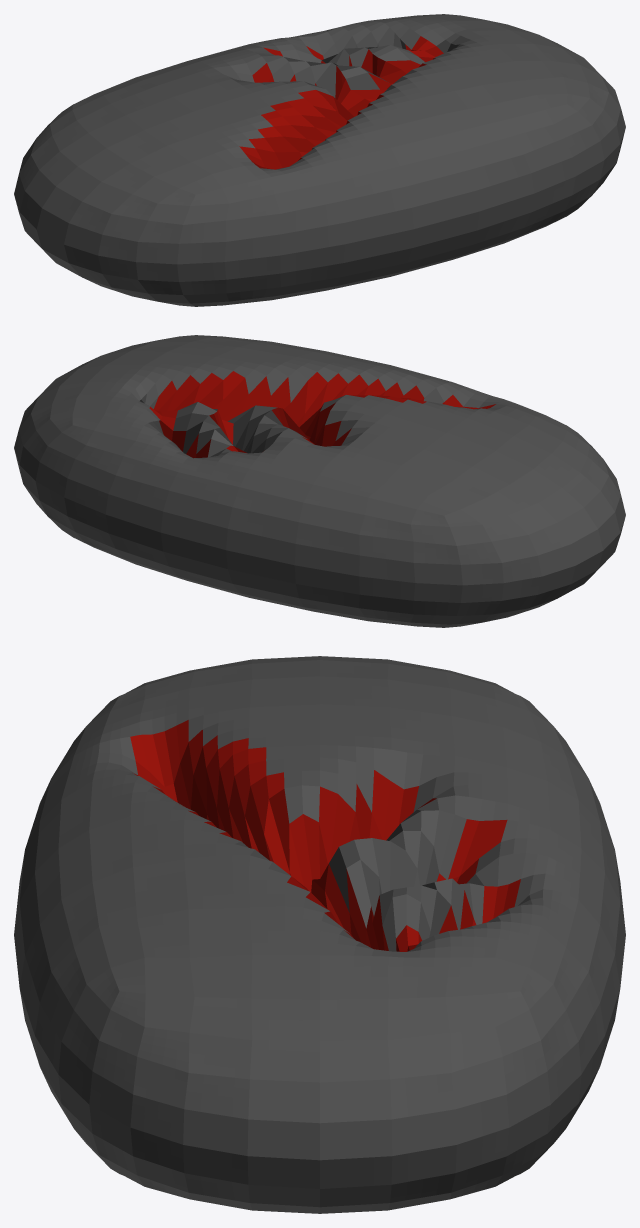
Rendered from Sigil_E.fbx.
The picture shows the model from 3 angles, top to bottom: view 1: azimuth 30°, elevation 25°; view 2: azimuth 150°, elevation 25°; view 3: azimuth 270°, elevation 25°; orthographic projection. The views are drawn at different scales.
Parts seen in each view (by area): view 1: Sigil_E; view 2: Sigil_E; view 3: Sigil_E.
Part boxes in pixels (<box>): Sigil_E: <box>14,14,625,306</box>; Sigil_E: <box>14,335,625,627</box>; Sigil_E: <box>14,656,625,1213</box>.
Size of the model in its own units: 59.86 by 17.17 by 34.36.
